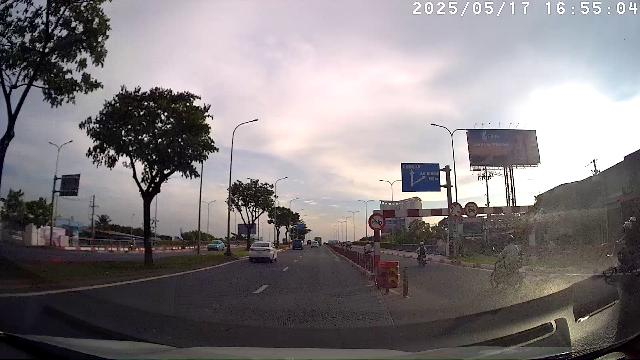103a-cam-oto: (464, 201, 479, 218)
